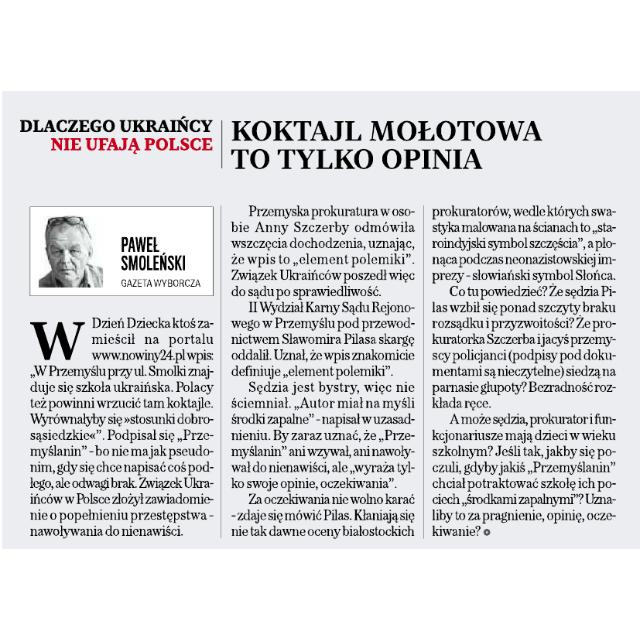author: (115, 231, 191, 273)
body: (227, 203, 417, 541), (430, 203, 620, 541), (23, 309, 215, 541)
title: (19, 112, 549, 178)
